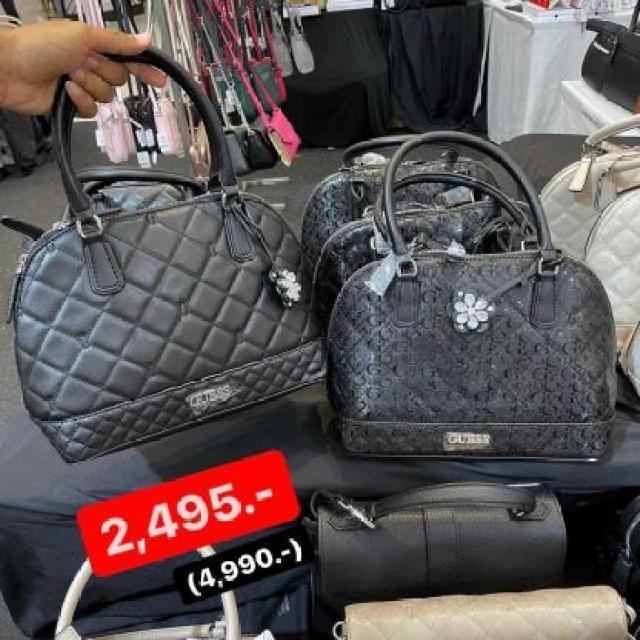Bag: (0, 23, 351, 454), (324, 122, 636, 480)
